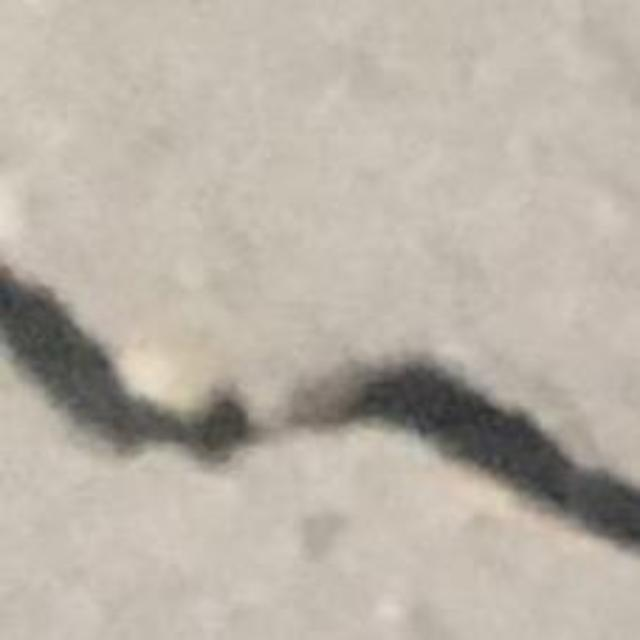crack: (325, 361, 639, 552)
